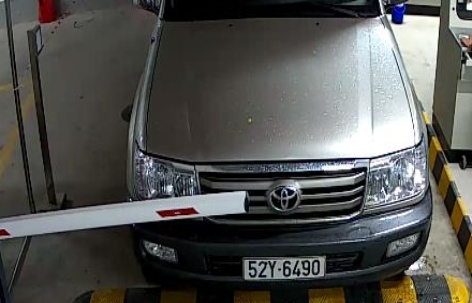plate: (237, 251, 327, 287)
